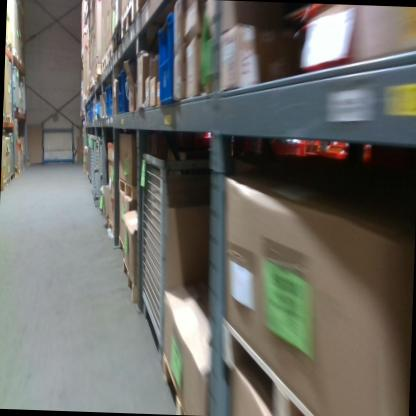pallet: (216, 317, 322, 416), (159, 349, 190, 414), (122, 257, 141, 303), (121, 0, 137, 42), (117, 178, 139, 203), (111, 20, 121, 61), (118, 234, 129, 258), (135, 0, 151, 16), (106, 40, 113, 66), (101, 50, 107, 74), (6, 175, 11, 187), (3, 178, 7, 190)
small_load_carrier: (157, 13, 177, 105), (115, 66, 132, 115), (108, 81, 116, 121), (104, 82, 110, 121), (90, 101, 95, 121)
stillage: (133, 146, 214, 367), (95, 136, 113, 219), (89, 138, 104, 204), (10, 59, 23, 109), (7, 131, 18, 181), (84, 132, 94, 184), (20, 73, 28, 116)
